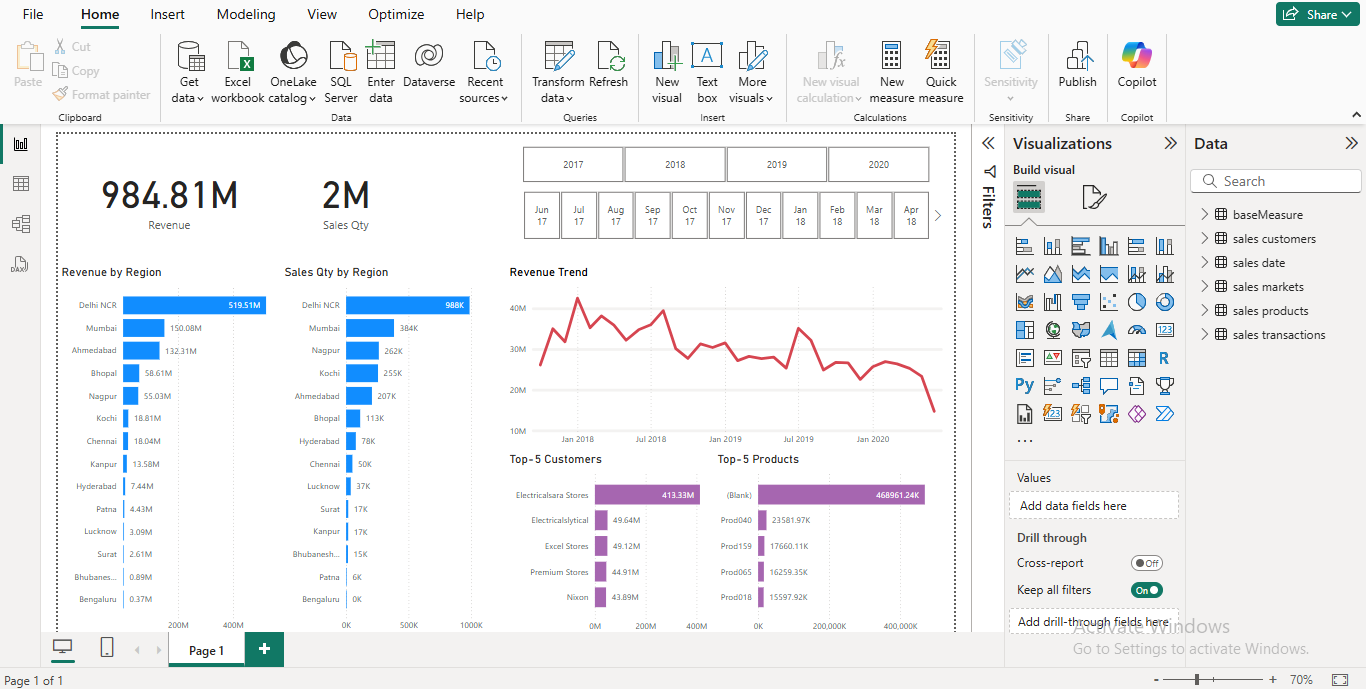

The dashboard page shown, as its layout file describes it:
{"tool":"powerbi","page":{"name":"Page 1","canvas":[1280,720],"ordinal":0},"visuals":[{"type":"card","title":"Total Revenue","fields":{"Values":["baseMeasure.Revenue"]},"box":[7.2,11.5,303.8,158.4],"z":0},{"type":"card","fields":{"Values":["baseMeasure.Sales Qty"]},"box":[267.8,11.5,288,158.4],"z":1000},{"type":"barChart","title":"Revenue by Region","fields":{"Category":["sales markets.markets_name"],"Y":["baseMeasure.Revenue"]},"box":[0,187.2,318.2,532.8],"z":2000},{"type":"barChart","title":"Sales Qty by Region","fields":{"Category":["sales markets.markets_name"],"Y":["baseMeasure.Sales Qty"]},"box":[318.2,187.2,321.1,532.8],"z":3000},{"type":"slicer","fields":{"Values":["sales date.year"]},"box":[638.3,11.8,629.9,63.8],"z":4000},{"type":"slicer","fields":{"Values":["sales date.cy_date"]},"box":[640,75.6,628.2,80.6],"z":5000},{"type":"barChart","title":"Top-5 Customers","fields":{"Category":["sales customers.custmer_name"],"Y":["baseMeasure.Revenue"]},"box":[639.4,453.6,298.1,266.4],"z":6000},{"type":"lineChart","title":"Revenue Trend","fields":{"Y":["baseMeasure.Revenue"],"Category":["sales date.cy_date"]},"box":[639.4,187.2,640.8,266.4],"z":7000},{"type":"barChart","title":"Top-5 Products","fields":{"Y":["baseMeasure.Revenue"],"Category":["sales products.product_code"]},"box":[937.4,453.6,331.2,266.4],"z":7001}]}

Visuals, with their boxes on the page's 1280x720 design canvas (x1, y1, x2, y2). These are canvas units, not pixel positions in the 1366x689 screenshot, which may show the page scaled, cropped or inside an application window:
"Total Revenue" card: (7,12,311,170)
card - baseMeasure.Sales Qty: (268,12,556,170)
"Revenue by Region" barChart: (0,187,318,720)
"Sales Qty by Region" barChart: (318,187,639,720)
slicer - sales date.year: (638,12,1268,76)
slicer - sales date.cy_date: (640,76,1268,156)
"Top-5 Customers" barChart: (639,454,938,720)
"Revenue Trend" lineChart: (639,187,1280,454)
"Top-5 Products" barChart: (937,454,1269,720)
